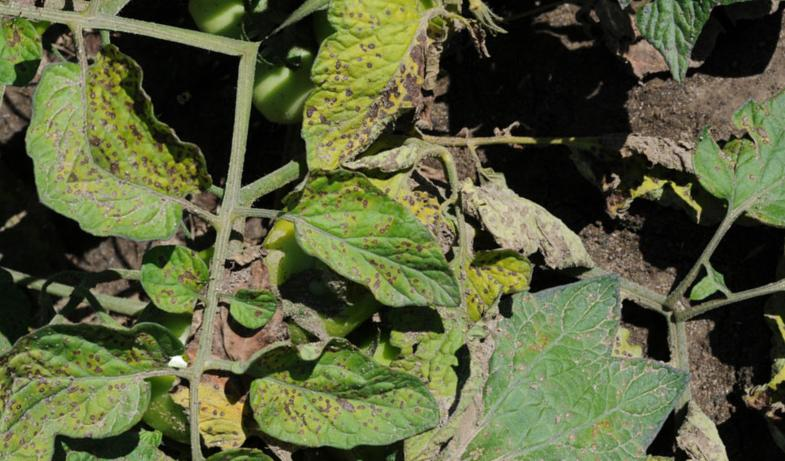Tomato Septoria leaf spot: (256, 132, 479, 370), (232, 0, 490, 194), (25, 105, 235, 298), (228, 282, 453, 461), (0, 278, 176, 461), (107, 395, 342, 461)
